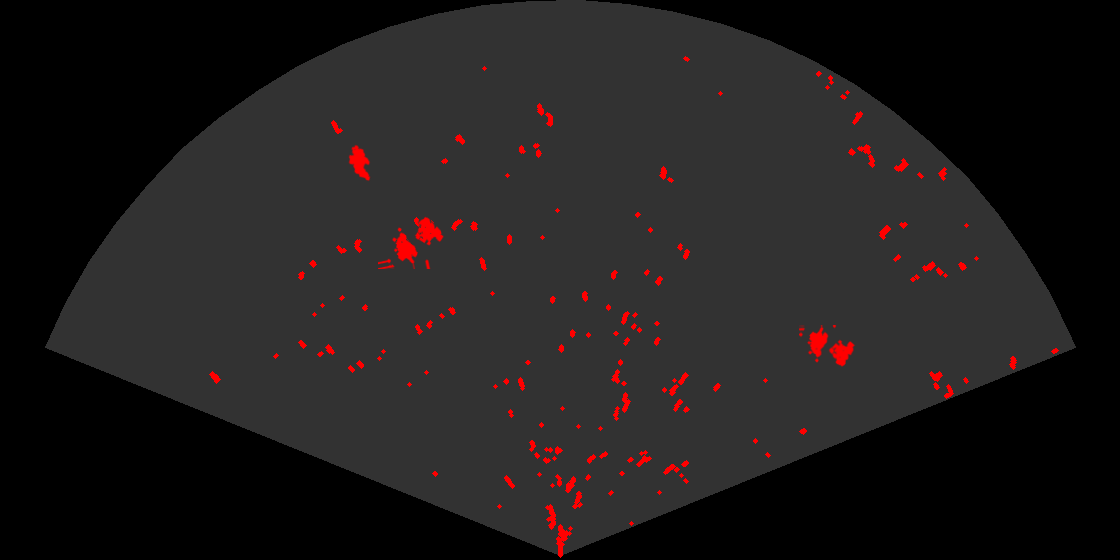AUV: (347, 143, 372, 183)
cage: (378, 215, 445, 269), (799, 325, 857, 368)
